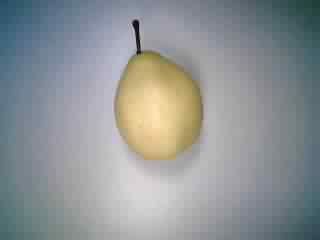pear: (96, 16, 213, 167)
